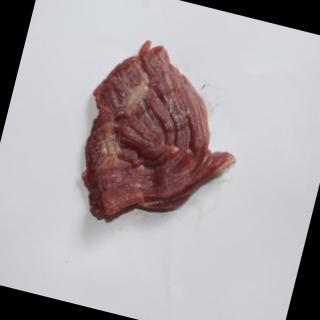Daging Sapi: (69, 34, 257, 247)
